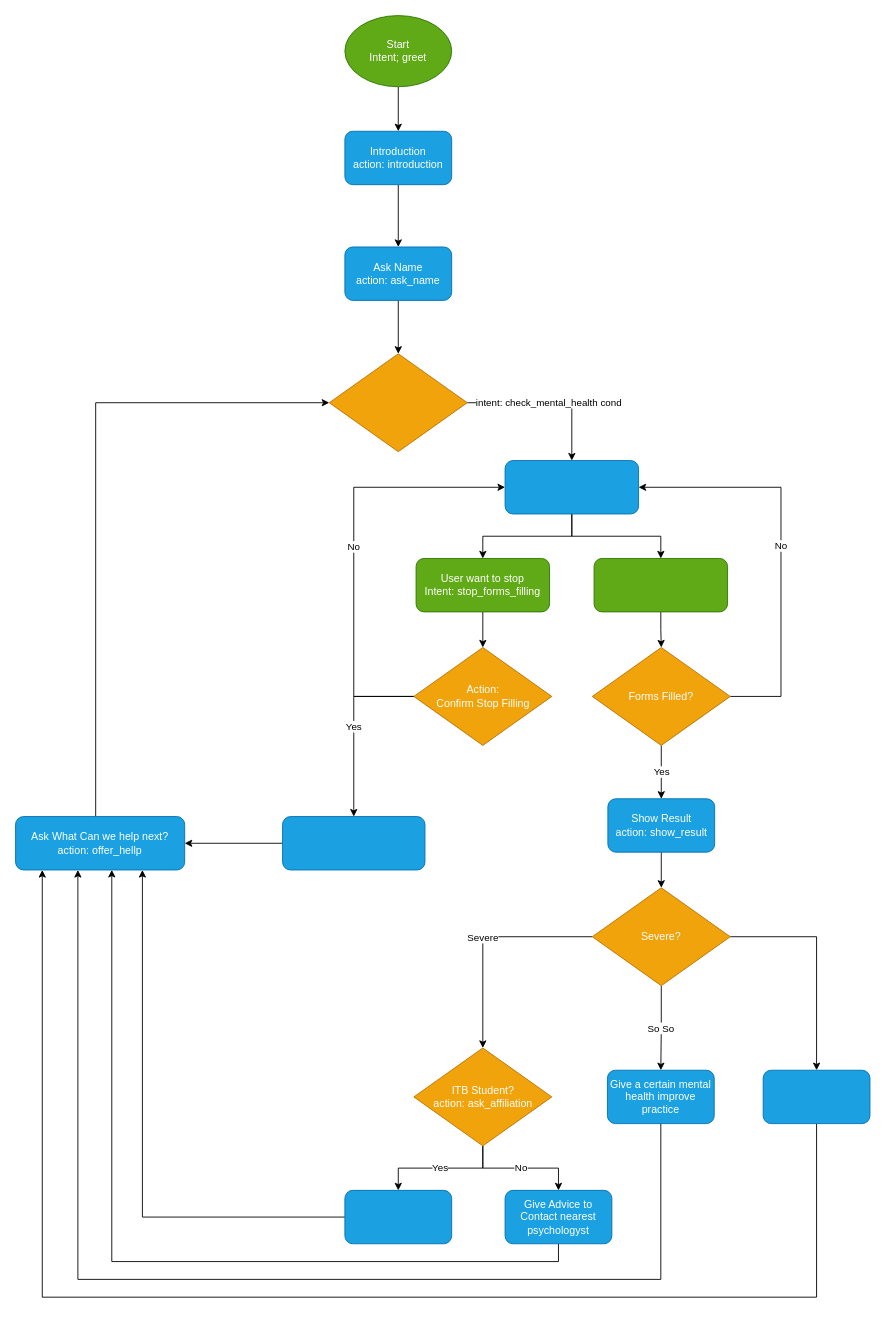
Image size: 886x1320. Some labels were removed from this diagram. The box of each missing label's shape, as (x1, y1, x2, y2) in pixels:
Answer Question intent: answer_questionaire: (593, 558, 728, 612)
Ask Anamnesis Question Action: fill_anamnesis_form: (504, 460, 639, 514)
Ask what user want to do with chatbot: (328, 353, 467, 452)
Ask Why Stop action: ask_suggestion: (282, 816, 425, 870)
Give BK ITB contact and step by step to book one: (344, 1189, 452, 1244)
Rooting for Him/her: (762, 1069, 870, 1124)
